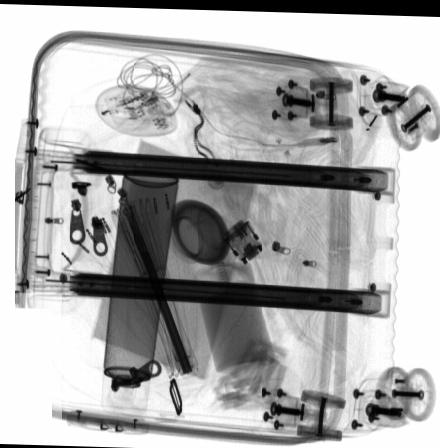Sprayer: (101, 169, 178, 409)
